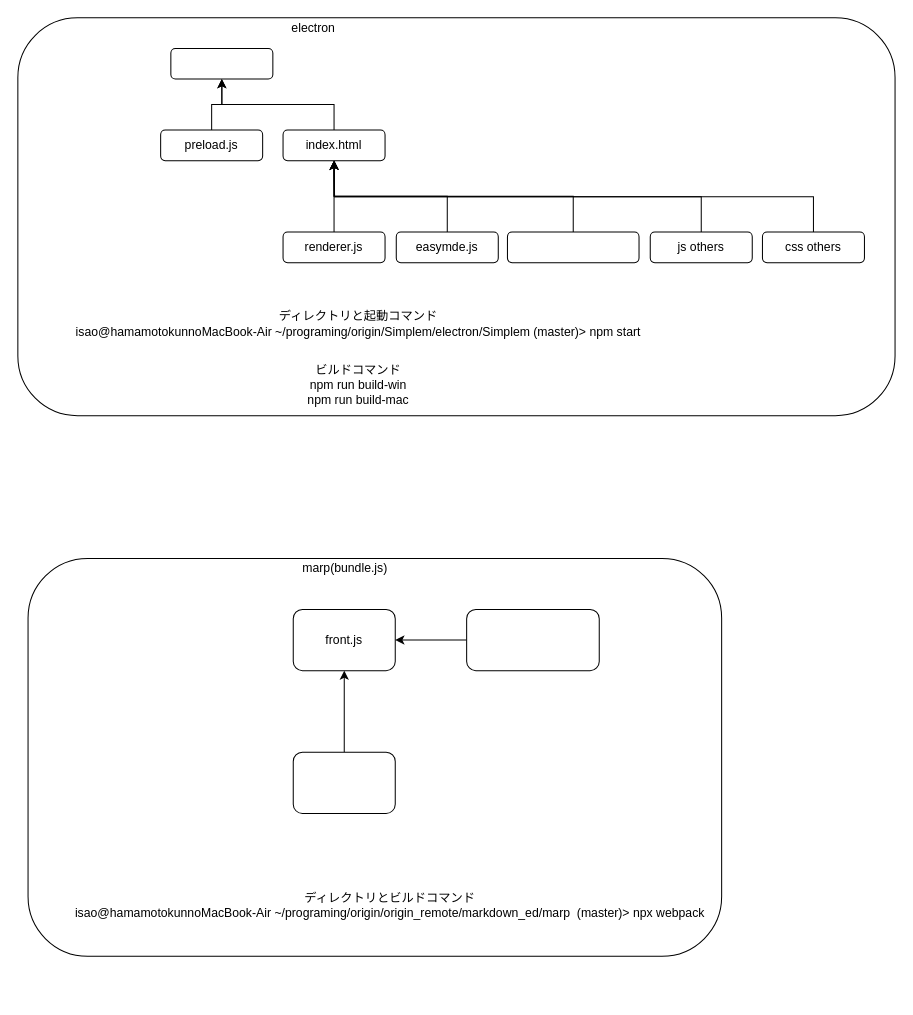
Image size: 913x1015. Some labels were removed from this diagram. Each missing label, with the centre of its shape:
main.js: (x=221, y=63)
mark_live_preview.js: (x=572, y=247)
marp-core js's: (x=343, y=782)
webpack.config.js: (x=532, y=639)
